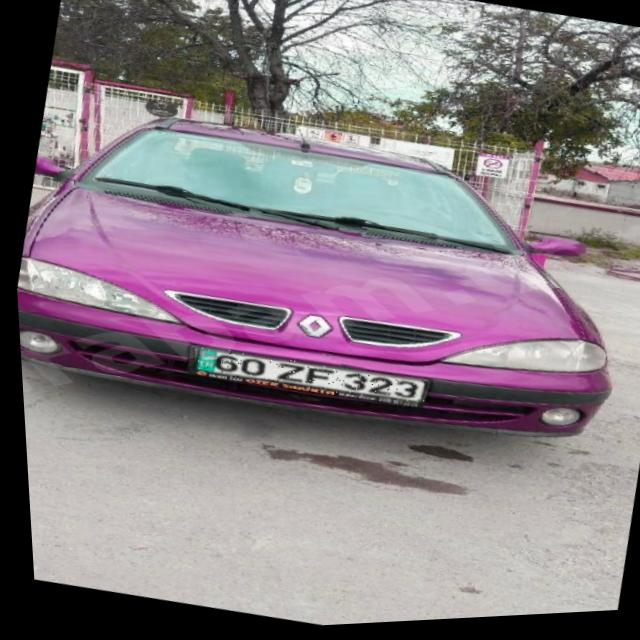license_plate: (186, 337, 422, 420)
